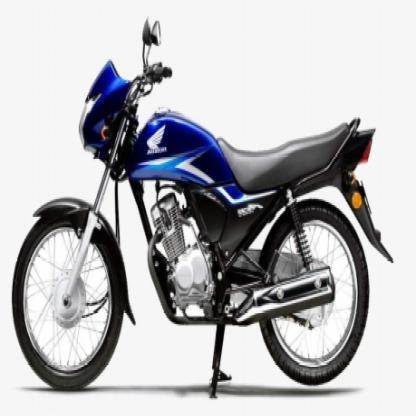Motorcycle: (10, 14, 397, 399)
